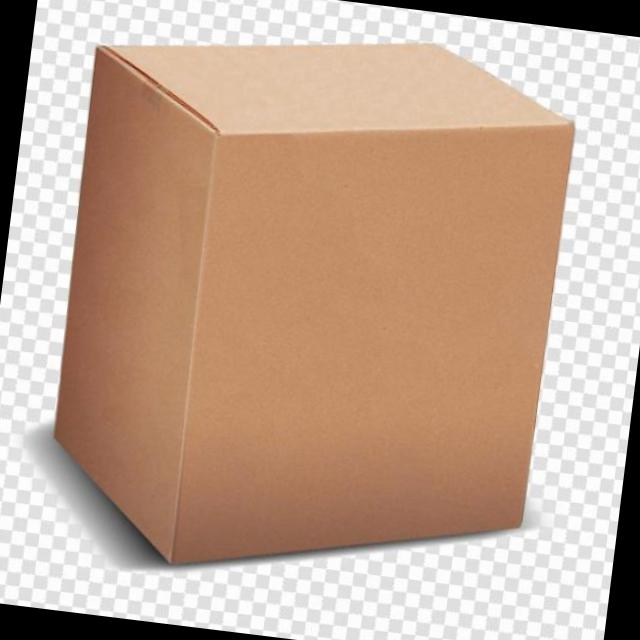box: (40, 4, 582, 606)
